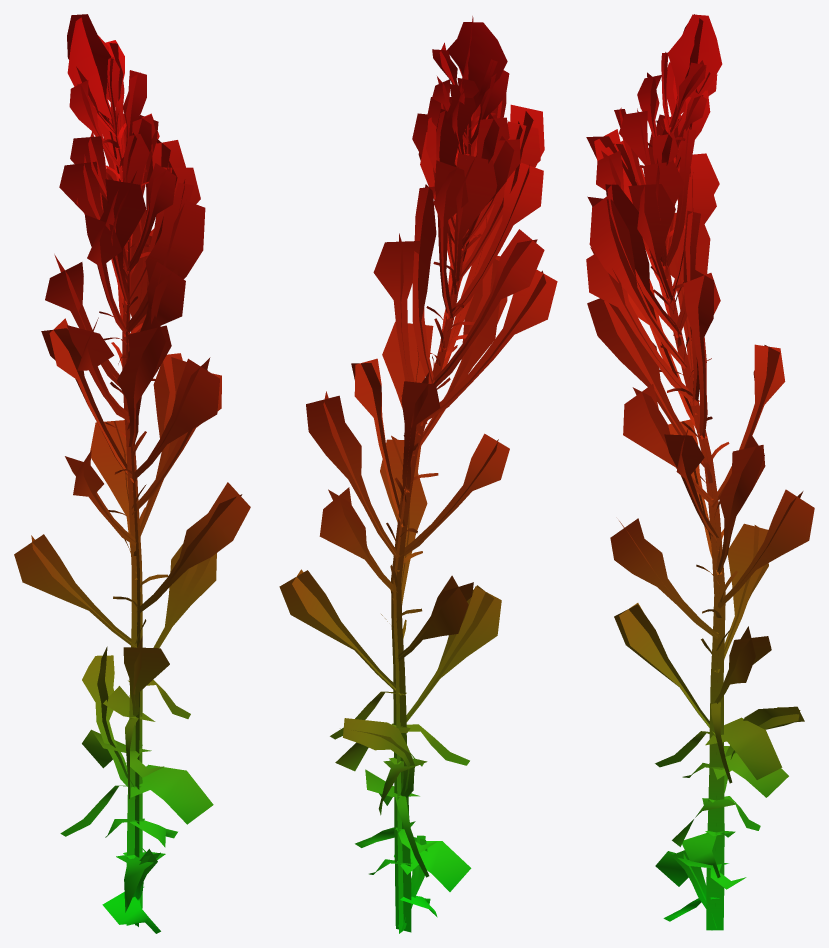
Rendered from Var1_LOD0.fbx.
The picture shows the model from 3 angles, left to right: view 1: azimuth 30°, elevation 25°; view 2: azimuth 150°, elevation 25°; view 3: azimuth 270°, elevation 25°; orthographic projection. The views are drawn at different scales.
Parts seen in each view (by area): view 1: _5da0_Var1_LOD0; view 2: _5da0_Var1_LOD0; view 3: _5da0_Var1_LOD0.
Boxes of the visible parts, x1,y1,x2,y2 form: _5da0_Var1_LOD0: [14, 14, 250, 933]; _5da0_Var1_LOD0: [279, 16, 557, 933]; _5da0_Var1_LOD0: [586, 14, 814, 930].
Size of the model in its own units: 36.39 by 149 by 34.72.
